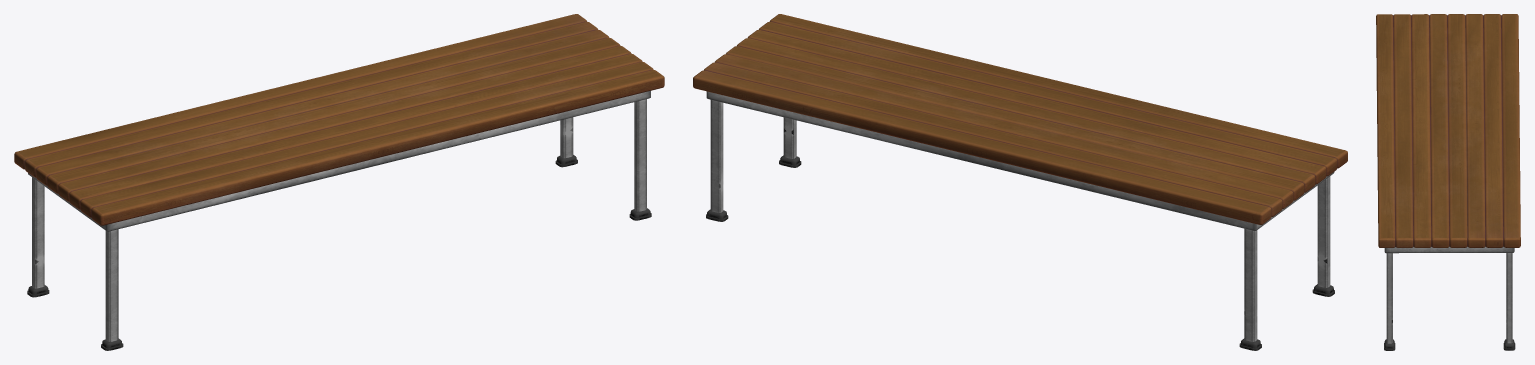
File: table-desktop-toon-v2.glb
The picture shows the model from 3 angles, left to right: view 1: azimuth 30°, elevation 25°; view 2: azimuth 150°, elevation 25°; view 3: azimuth 270°, elevation 25°; orthographic projection. The views are drawn at different scales.
Parts seen in each view (by area): view 1: table; view 2: table; view 3: table.
Boxes of the visible parts, <box> form: table: <box>14,14,664,350</box>; table: <box>693,14,1347,350</box>; table: <box>1376,14,1520,350</box>.
Size of the model in its own units: 300 by 71.47 by 81.26.
Materials: 1 (1 with a texture image).
